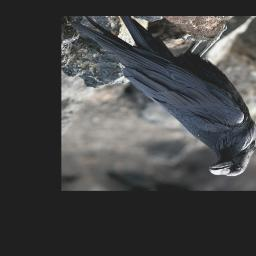Crow: (65, 17, 256, 177)
